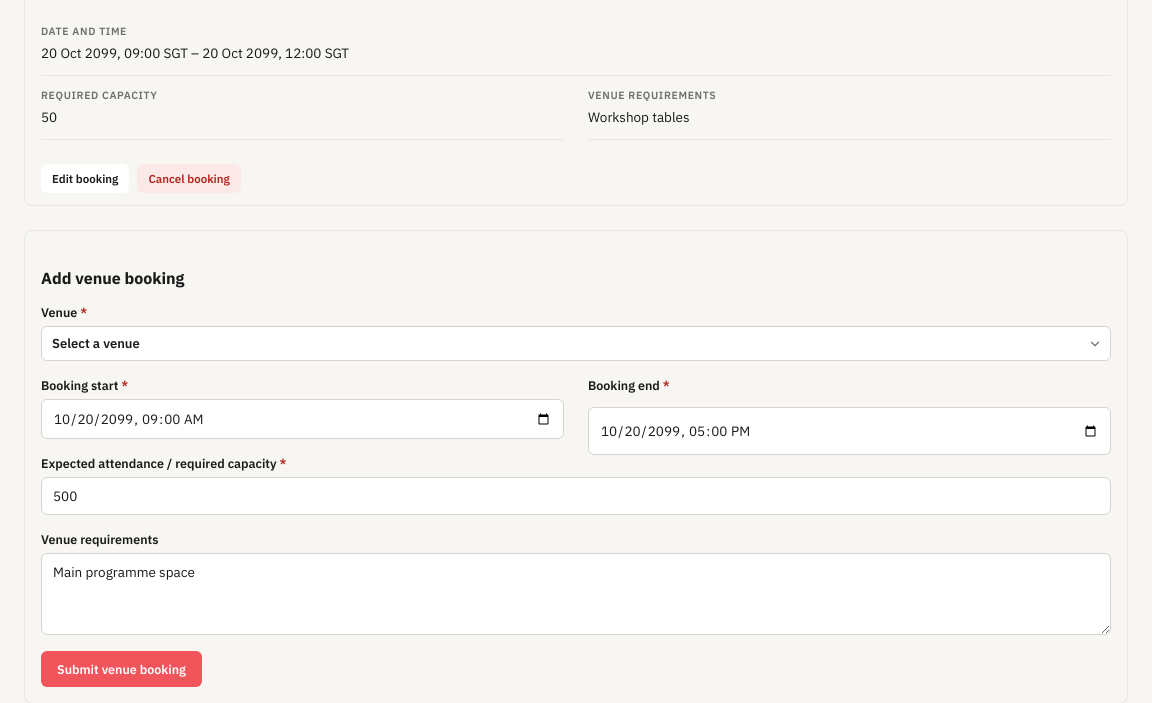
Test: submits booking-level capacity instead of the event total attendance
The width and height of the screenshot is (1152, 703).
(page scrolled)
Select "Breakout Room B · capacity 60" in the dropdown labelled "Venue *" at (576, 344), box [41,326,1111,361]
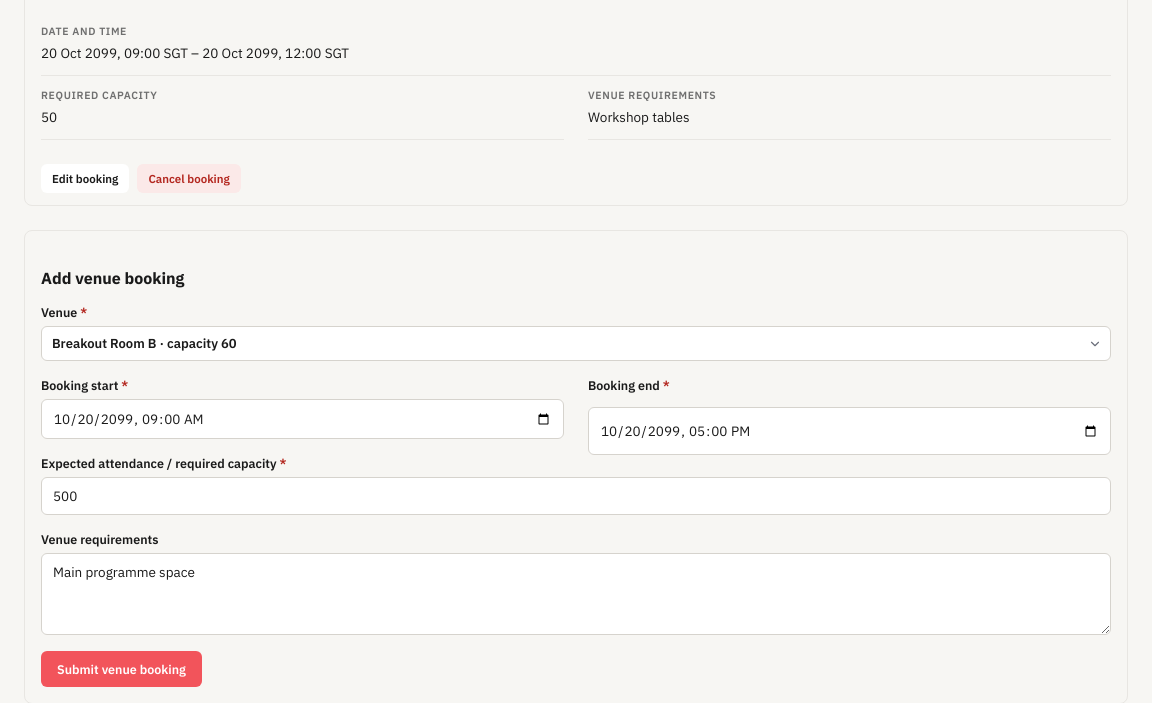
Replace the text in the number field labelled "Expected attendance / required capacity *" with "50" at (576, 496), box [41,477,1111,515]
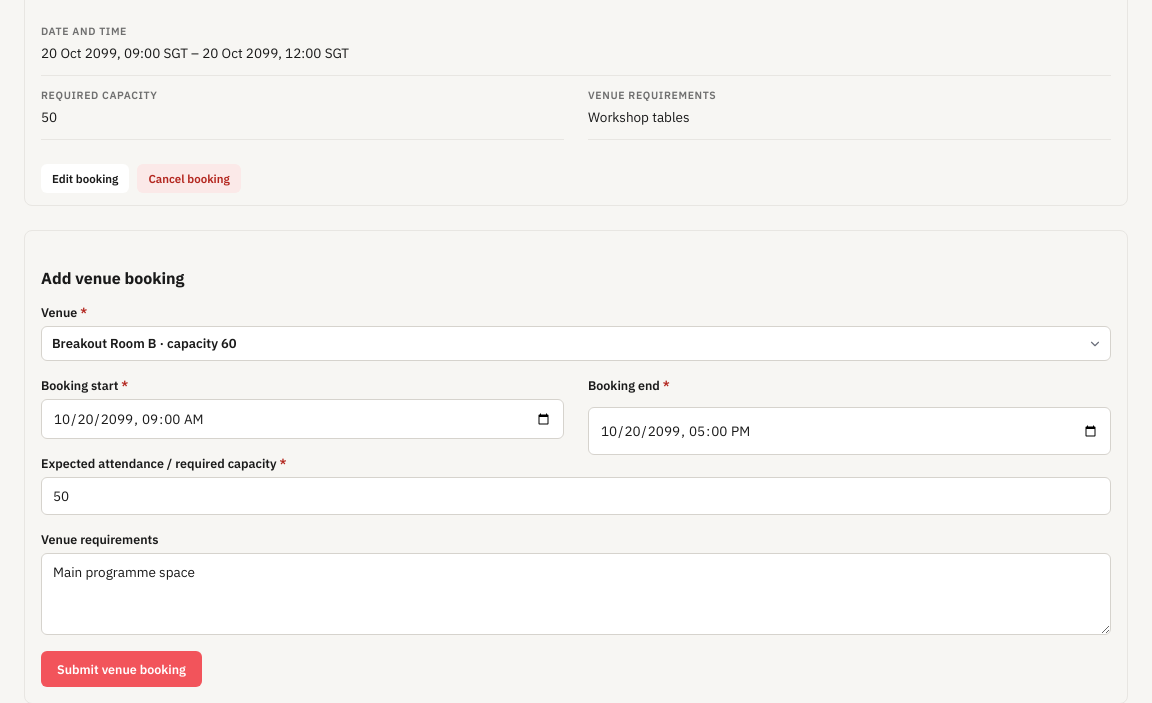
Replace the text in the text box labelled "Venue requirements" with "Breakout tables" at (576, 594), box [41,553,1111,635]
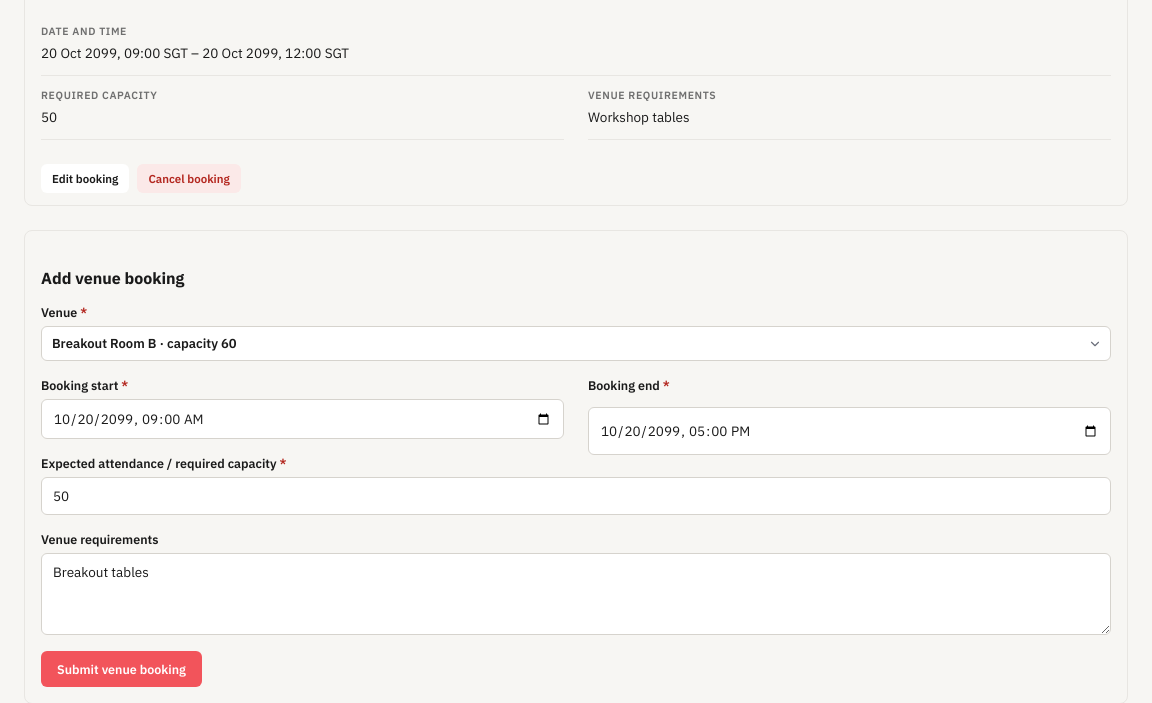
Click the button "Submit venue booking".
click(121, 669)  # box [41,651,202,687]
(page scrolled)
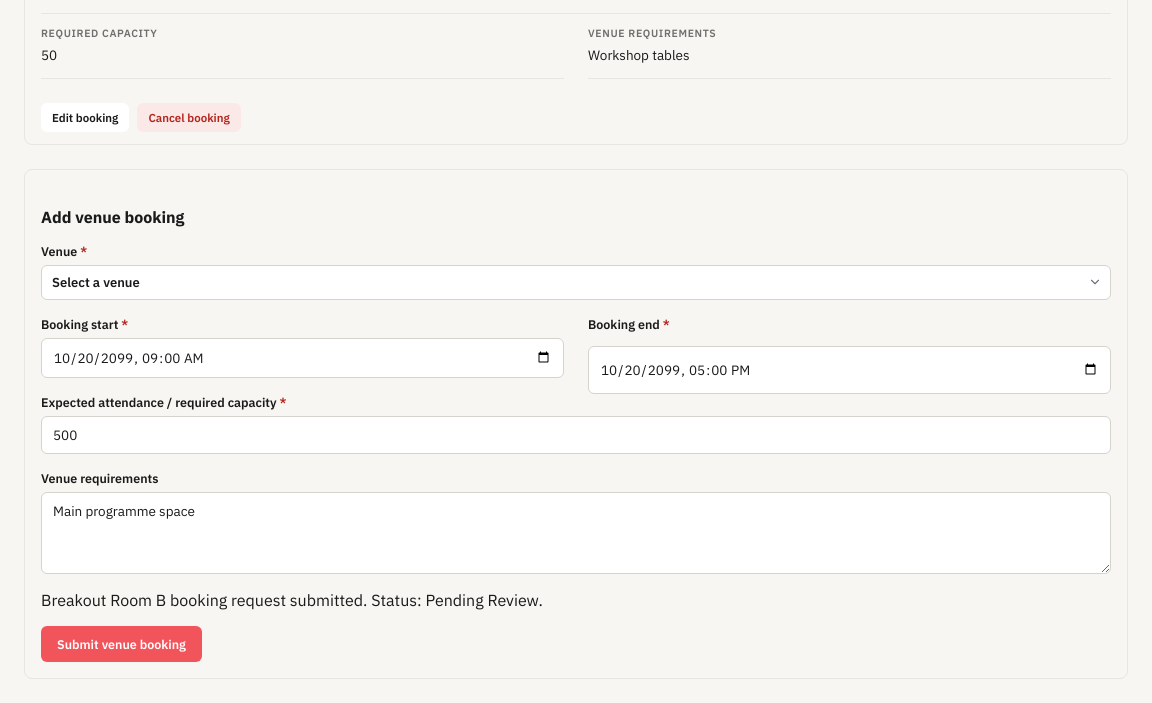
Expected: the text "Breakout Room B booking request submitted. Status: Pending Review." is shown, [41,590,543,610]
